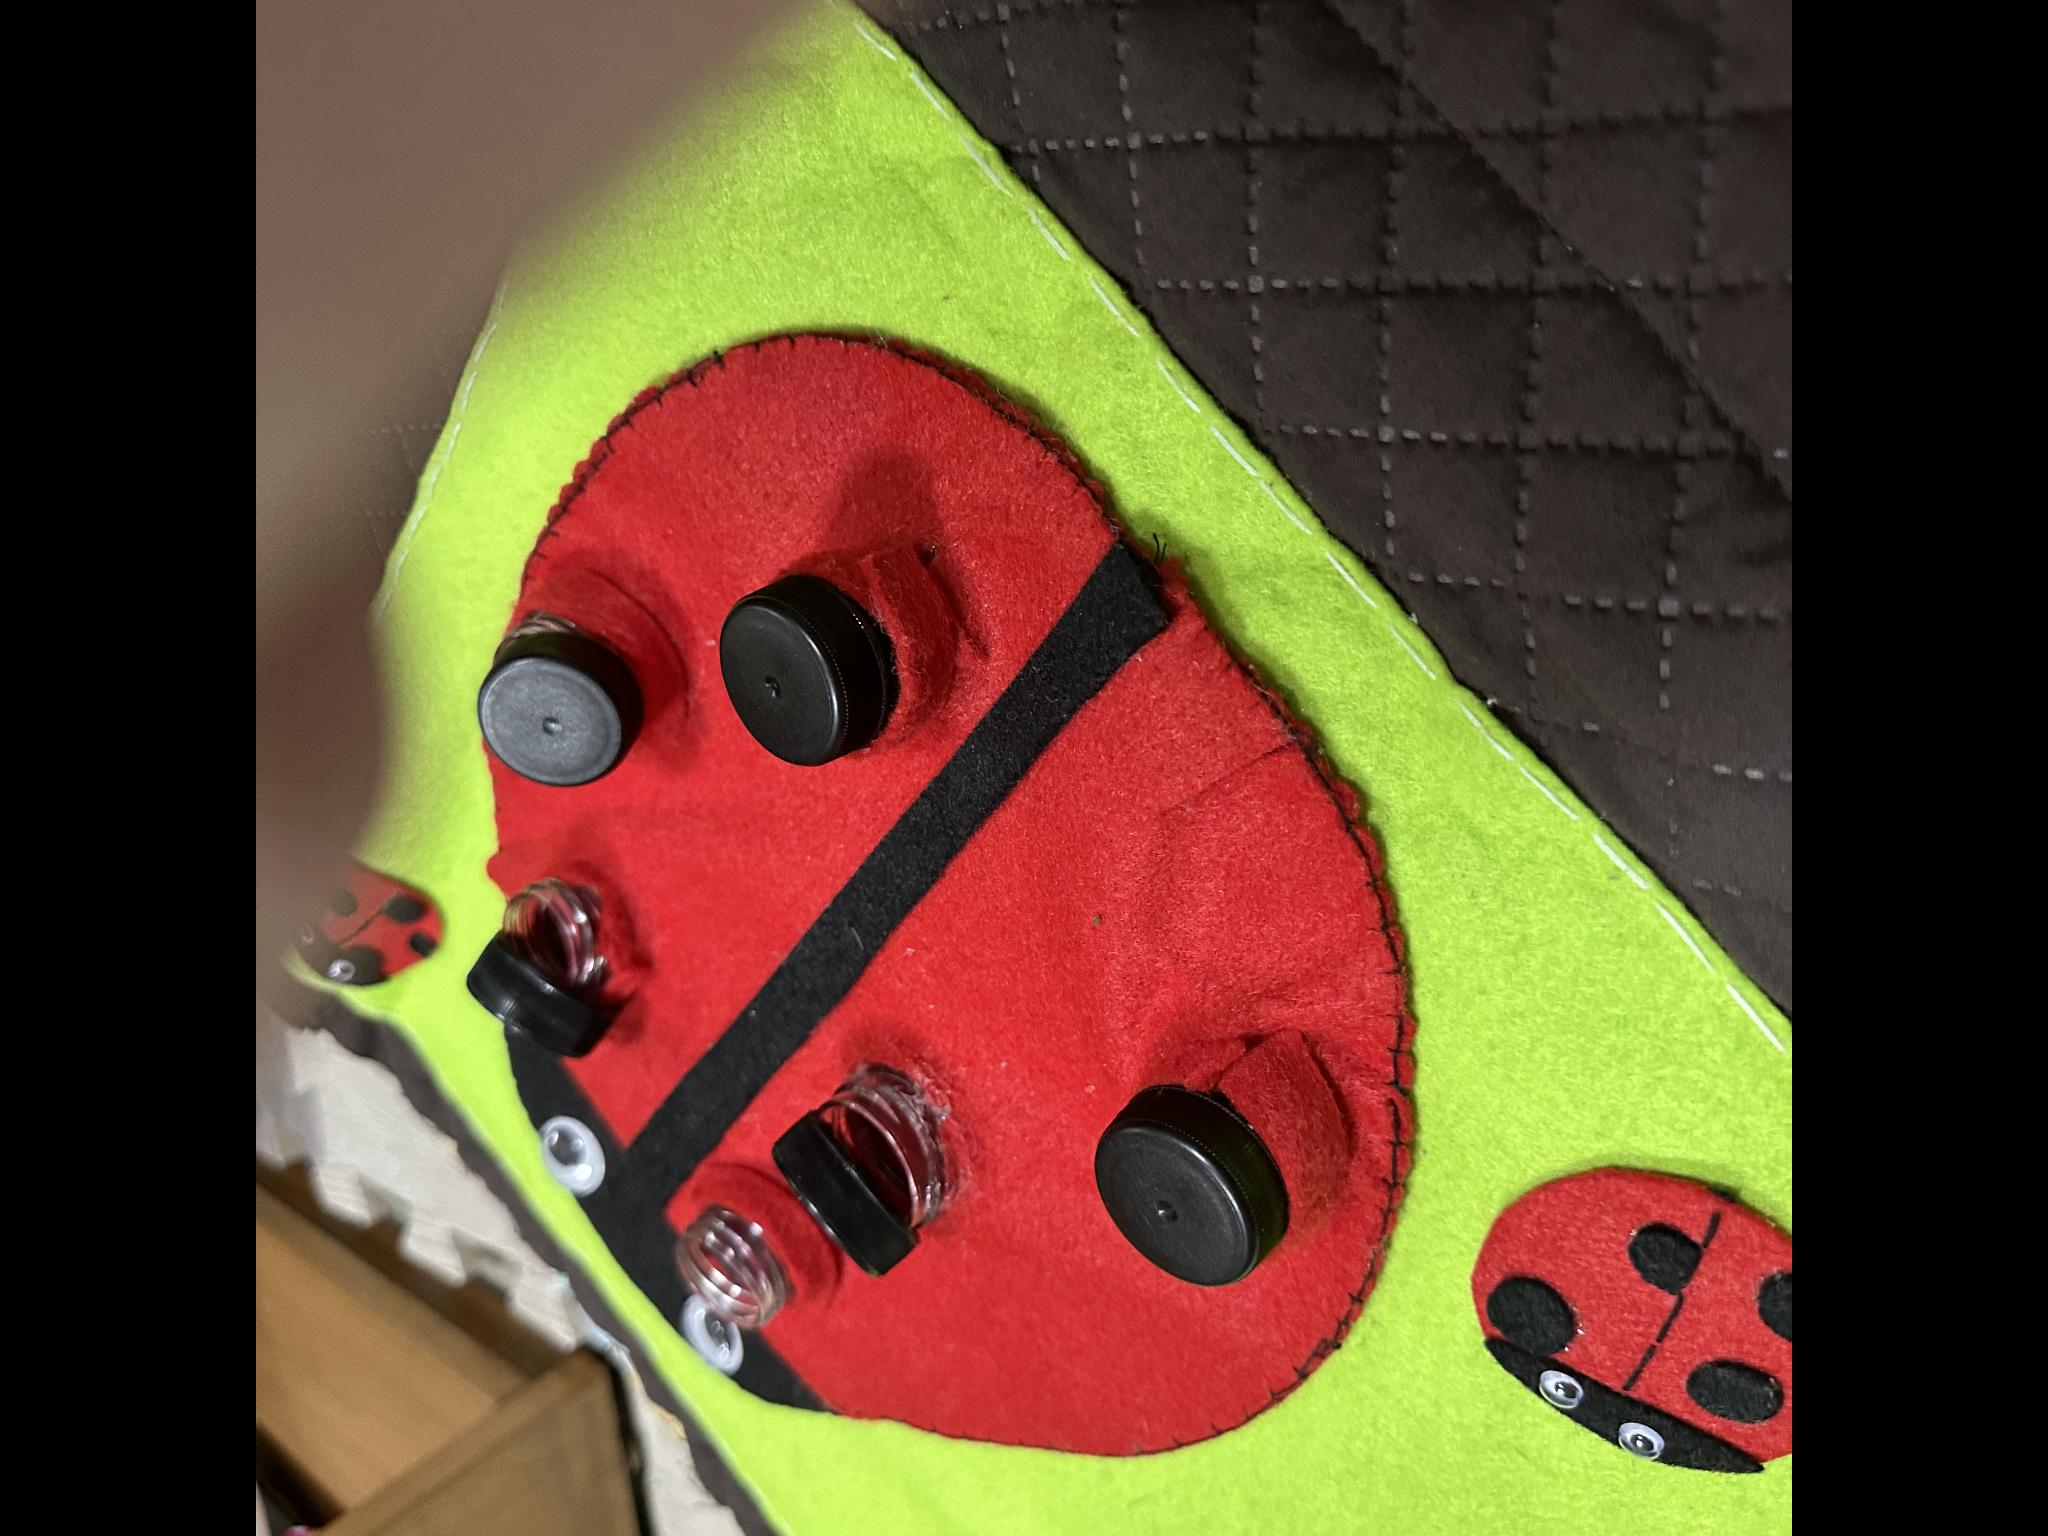cap_ng: (460, 566, 682, 792), (763, 1063, 974, 1279), (445, 857, 645, 1078)
cap_ok: (1050, 1029, 1361, 1299), (700, 529, 990, 758)
